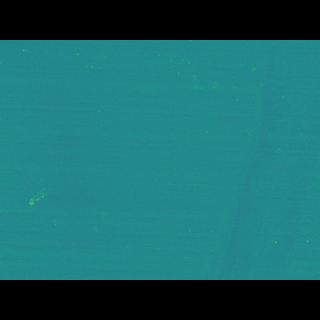Loch: (204, 91, 320, 251)
